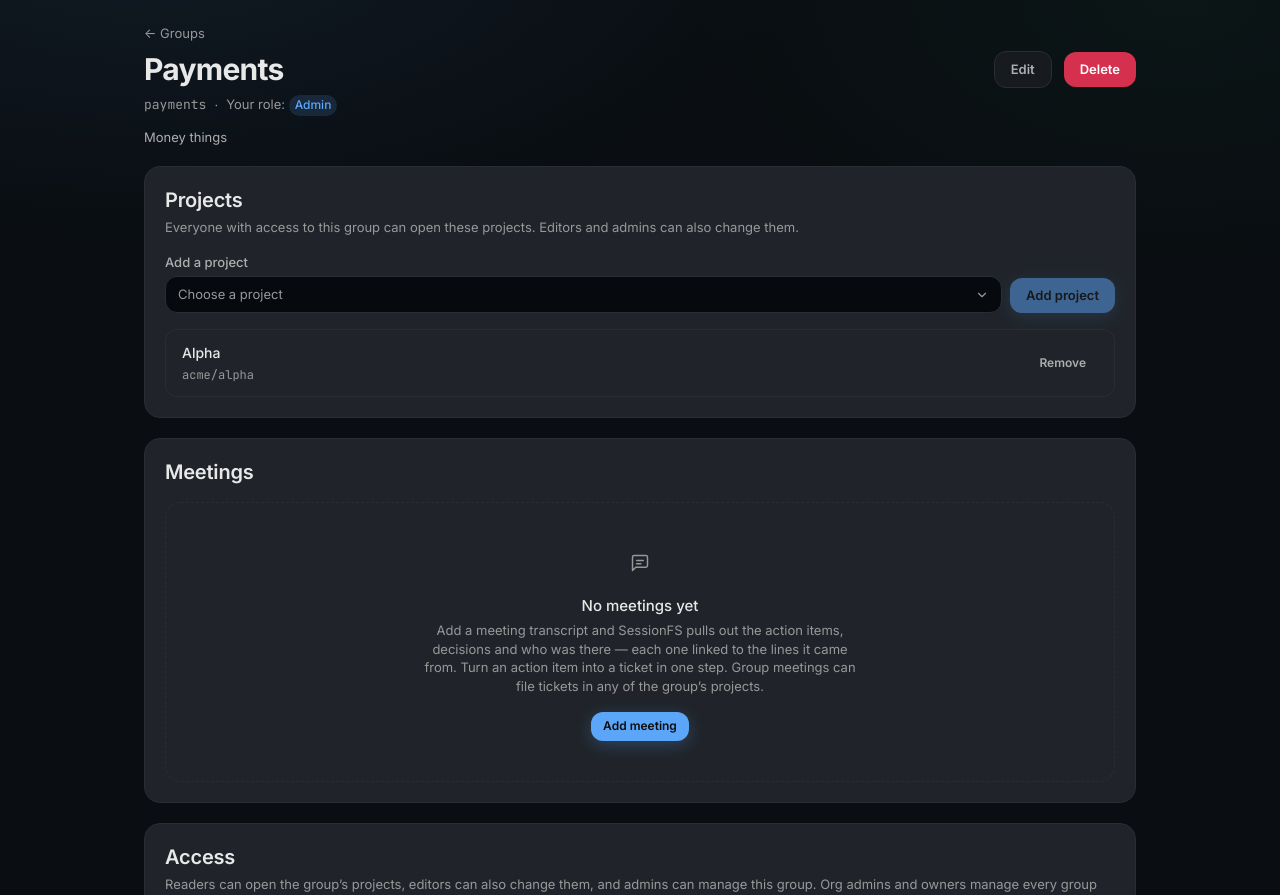
Scenario: GroupDetailPage — group admin › maps project_edit_forbidden when adding fails
Check: the link "Alpha" is shown, box [182,344,220,361]
Click the button named "Add a project" at (230, 294), box [165,276,1002,313]
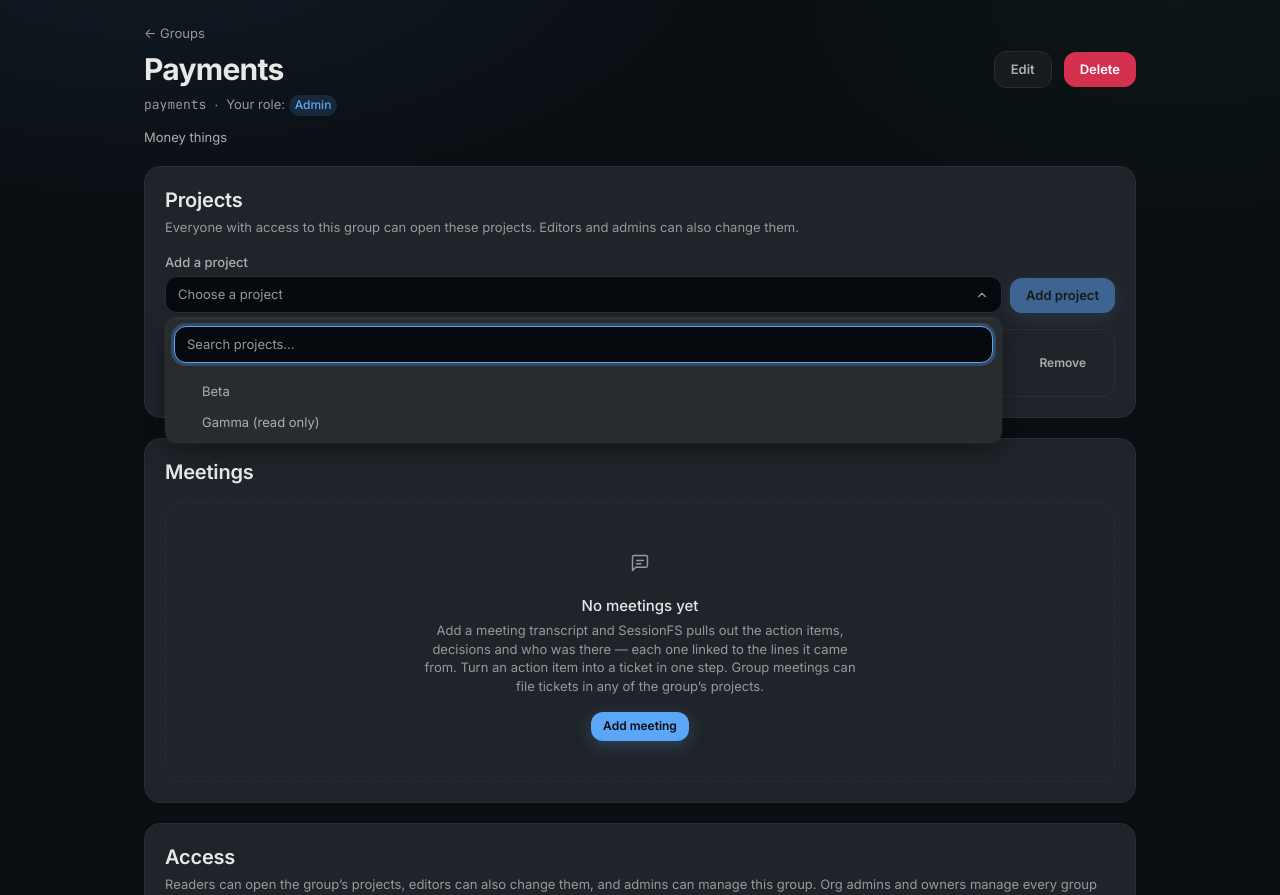
Click the option "Beta" at (216, 391), box [202,383,230,399]
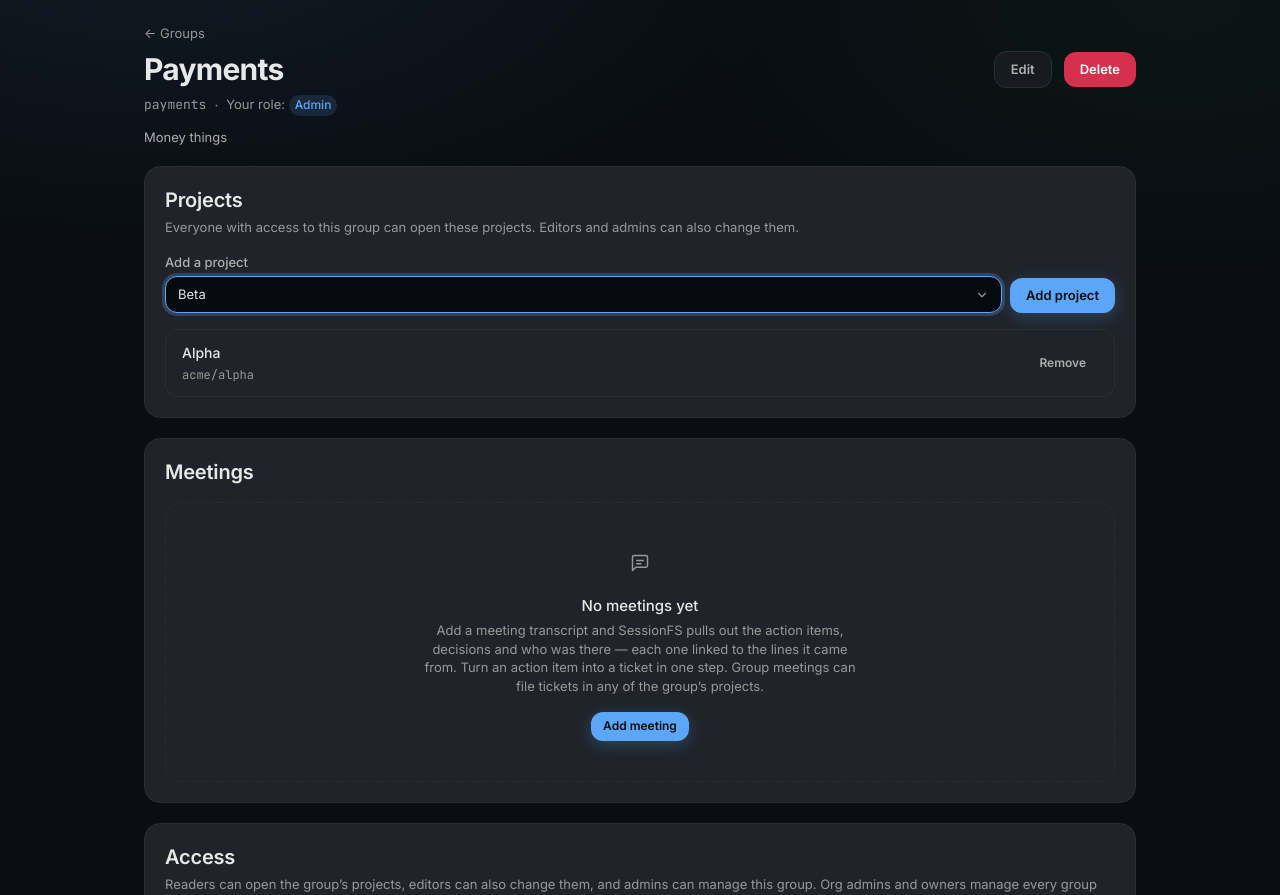
Click the button "Add project" at (1063, 296), box [1010,278,1115,313]
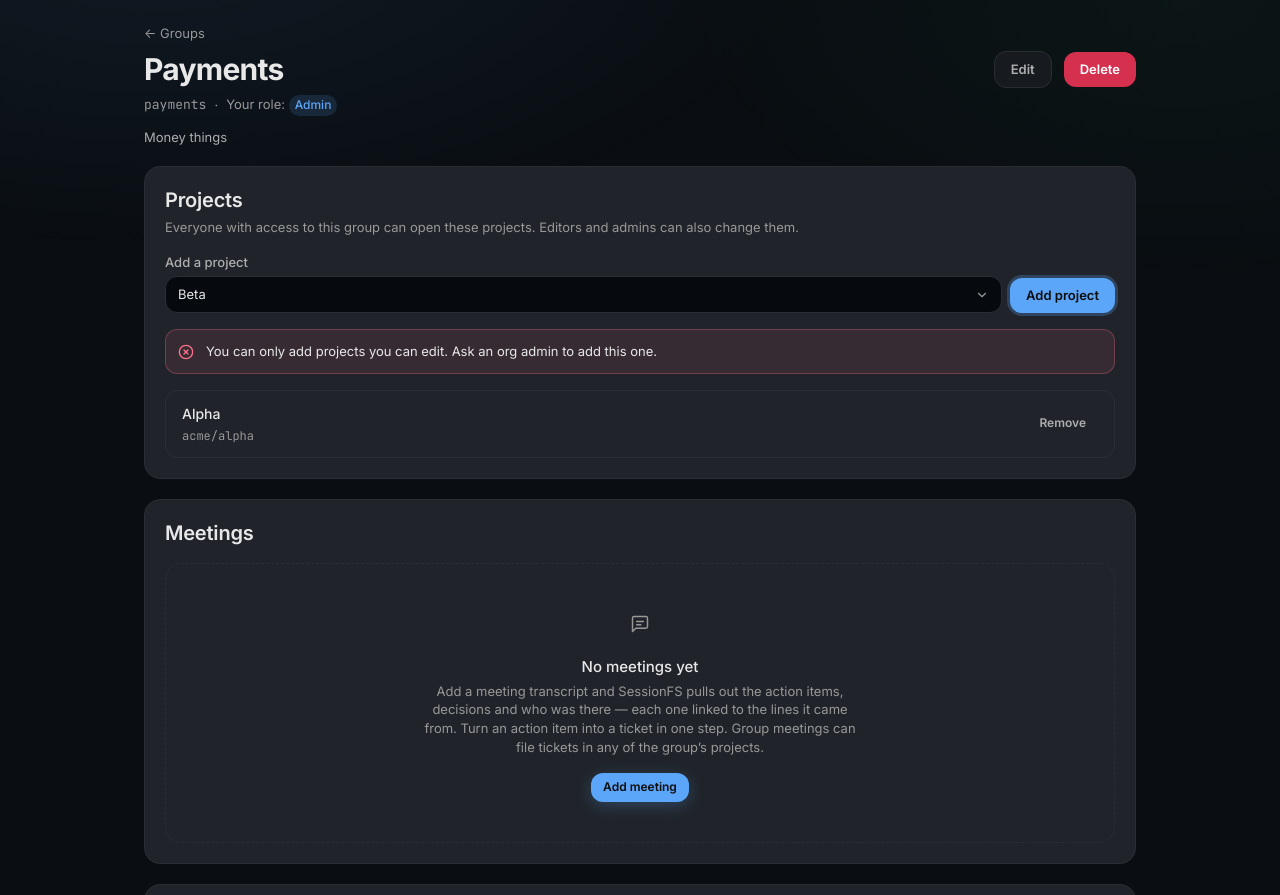
Check: the text "You can only add projects you can edit" is shown, box [206,343,657,359]
